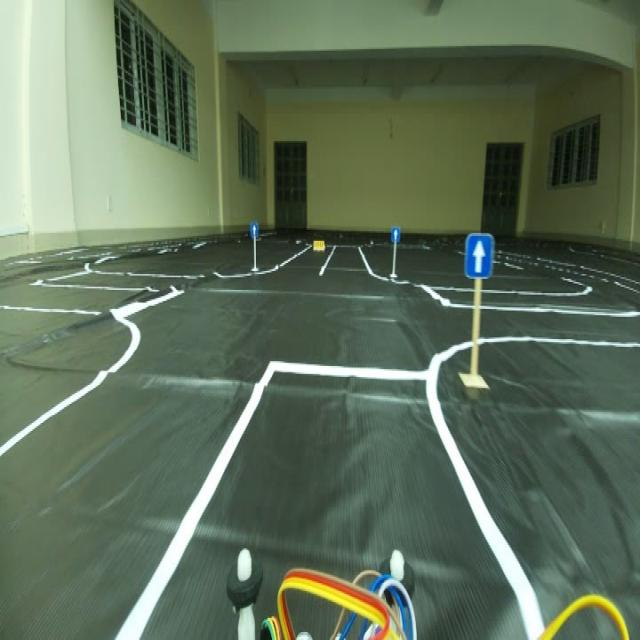onewayroad: (463, 226, 492, 281), (246, 217, 259, 241), (390, 222, 400, 241)
roadblock: (310, 239, 330, 251)
